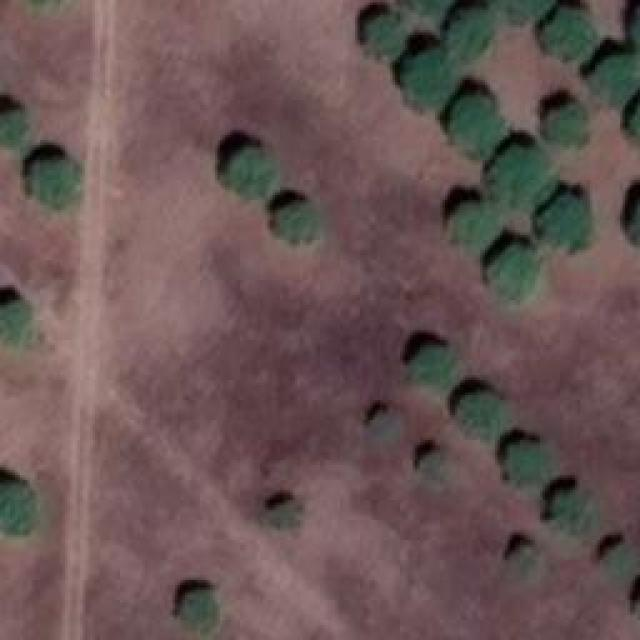Tree: (490, 140, 560, 204), (443, 93, 505, 154), (538, 193, 597, 252), (404, 48, 458, 109), (490, 243, 544, 299), (448, 198, 502, 250), (0, 475, 40, 545), (402, 338, 459, 387), (543, 8, 597, 59), (456, 385, 508, 437), (590, 50, 639, 105), (500, 440, 556, 488), (35, 155, 85, 205), (228, 148, 279, 196), (453, 8, 500, 58), (545, 100, 592, 149), (547, 483, 592, 531), (365, 15, 410, 60), (275, 197, 318, 242), (183, 585, 220, 632), (365, 403, 406, 443), (0, 300, 32, 349), (415, 450, 452, 489), (605, 543, 639, 581), (268, 500, 304, 535), (0, 108, 30, 149), (507, 543, 541, 579), (503, 0, 545, 28)
